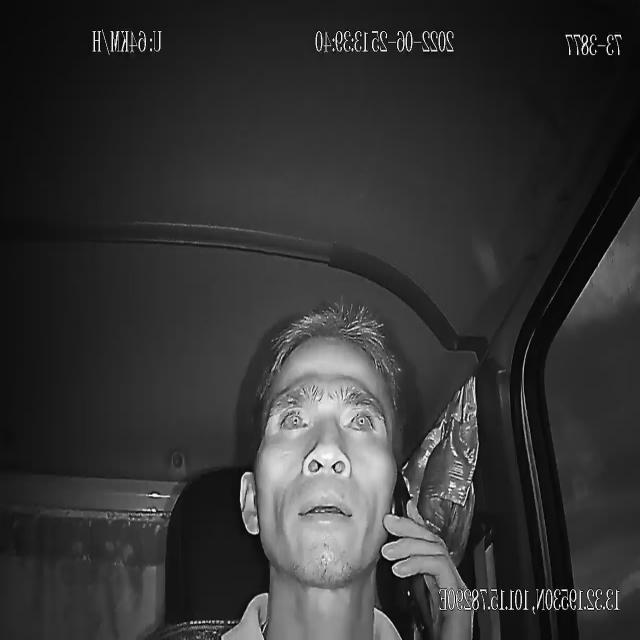phone: (390, 466, 432, 640)
